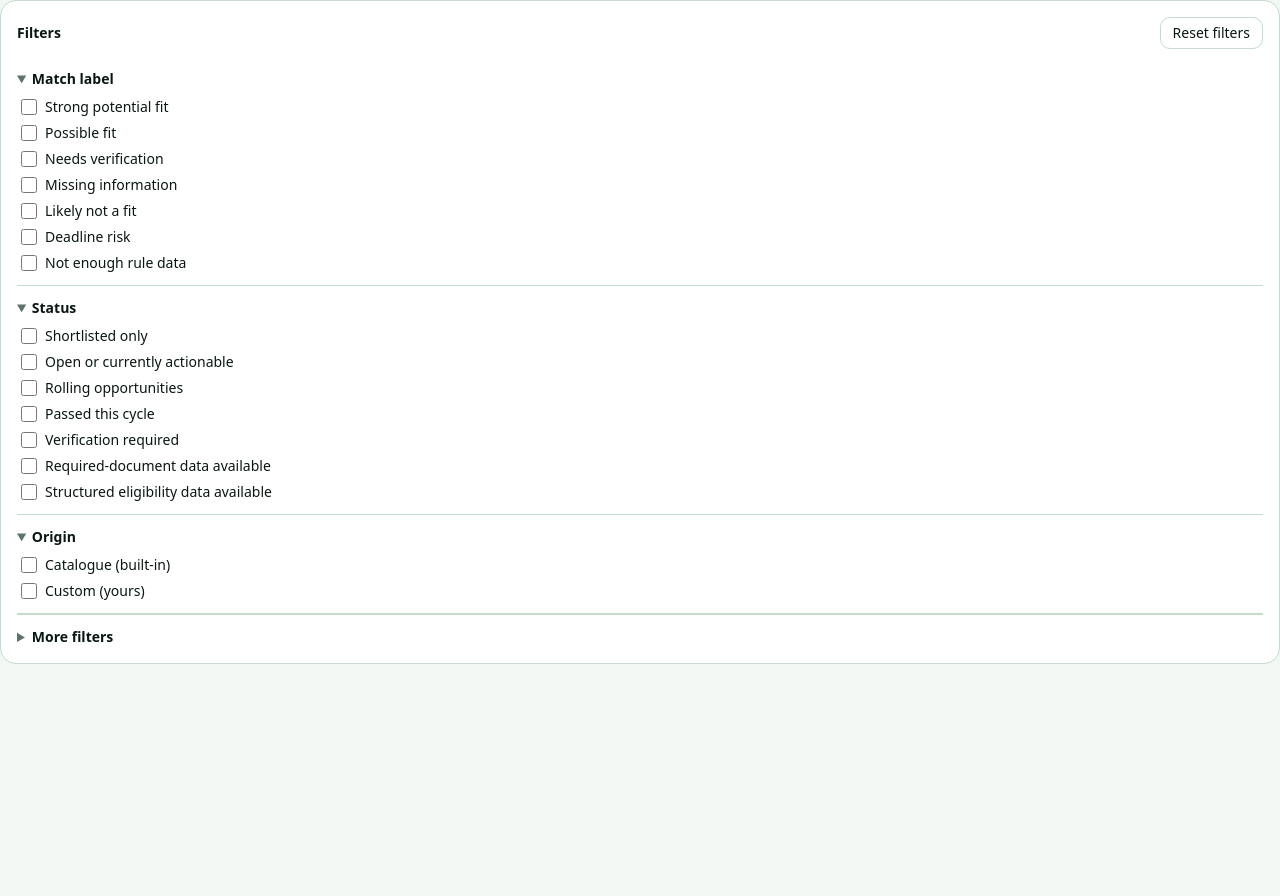
Scenario: FilterPanel › renders accessible, labelled checkboxes for each filter dimension
Check: the checkbox labelled "Shortlisted only" is shown, box [21,328,37,344]
Click the heading "More filters" at (73, 636), box [32,627,113,646]
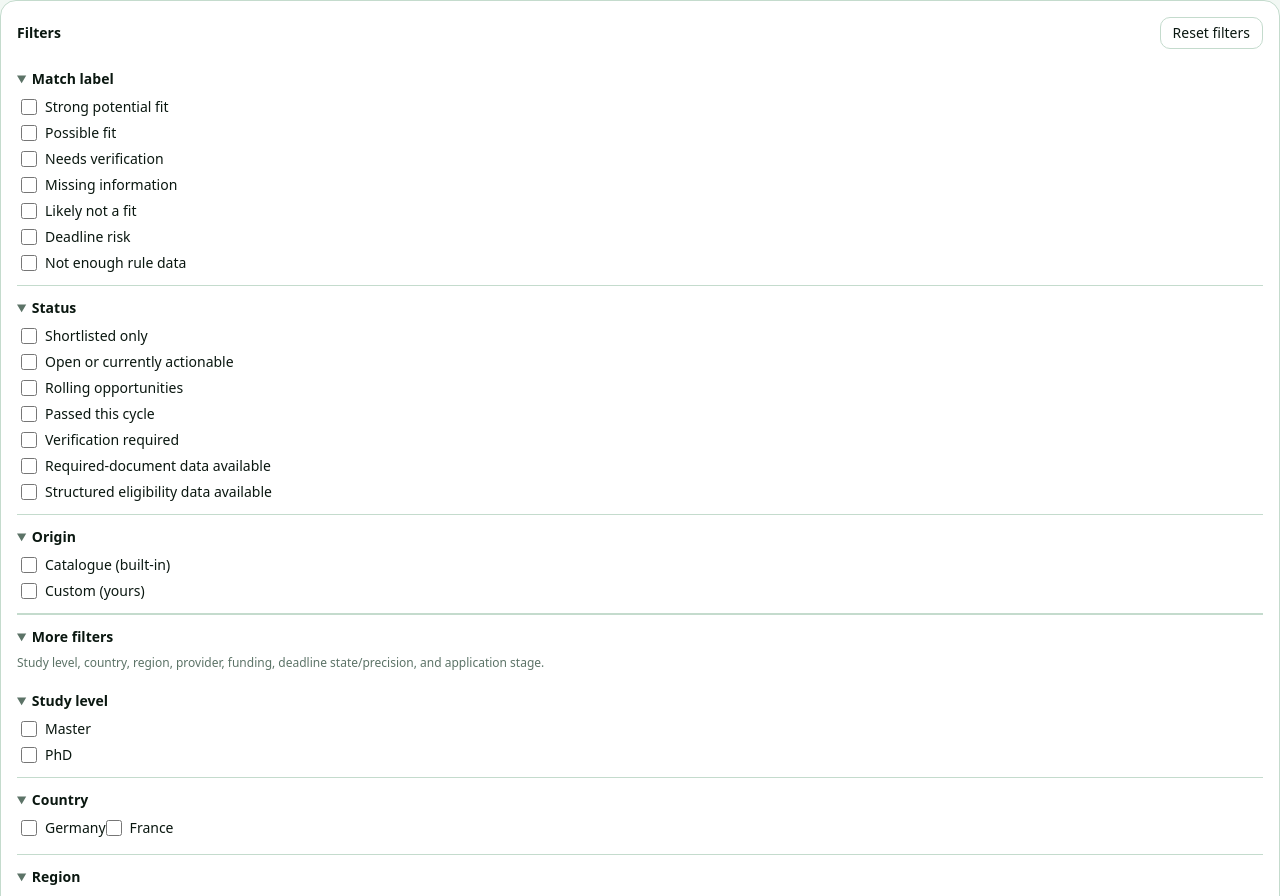
Check: the checkbox labelled "Germany" is shown, box [21,820,37,836]
Check: the checkbox labelled "Master" is shown, box [21,721,37,737]
